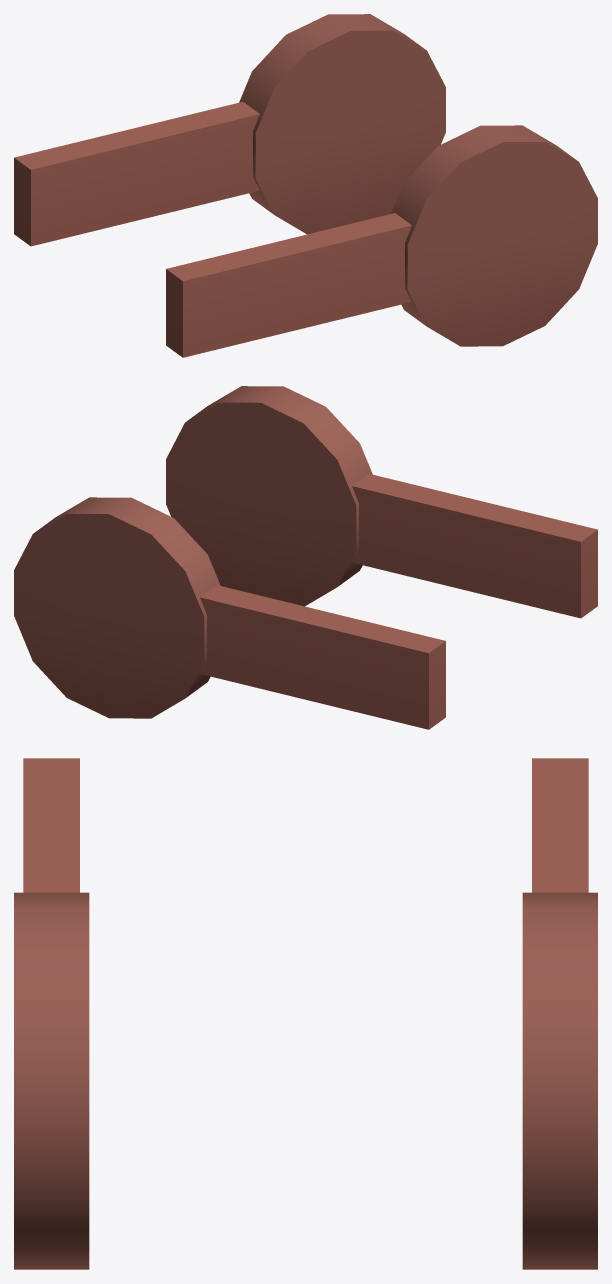
File: m_derrick_6c89d850.glb
3 views of the same model, one above another, from view 1: azimuth 30°, elevation 25°; view 2: azimuth 150°, elevation 25°; view 3: azimuth 270°, elevation 25° (orthographic). The views are drawn at different scales.
Parts seen in each view (by area): view 1: mesh; view 2: mesh; view 3: mesh.
Part boxes in pixels (x1,y1,x2,y2): mesh: (14,14,597,357); mesh: (14,386,597,729); mesh: (14,758,597,1269).
Size of the model in its own units: 16.9 by 8 by 12.4.
